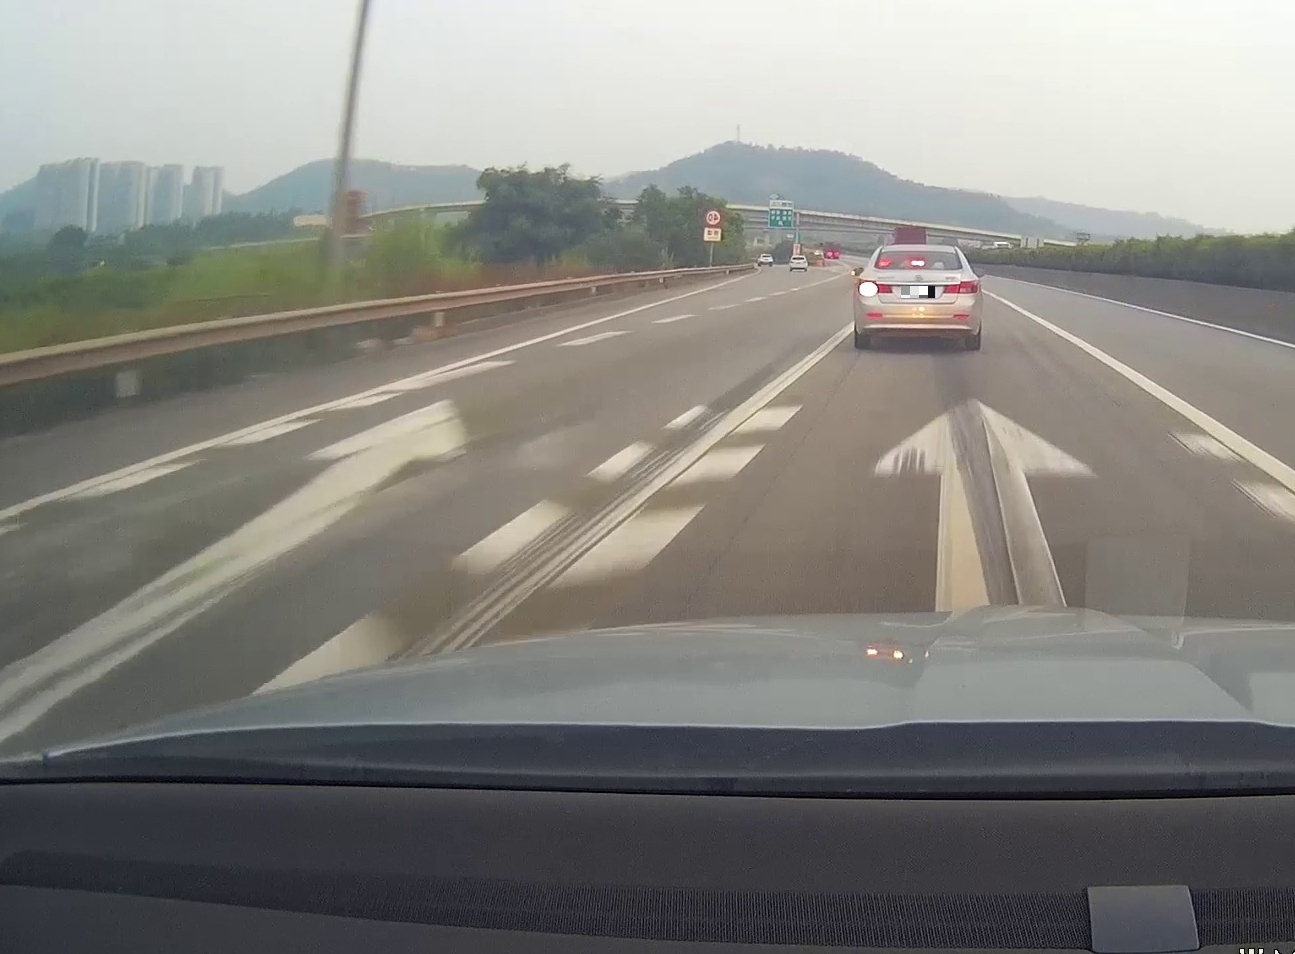L_light: (858, 279, 893, 294)
R_light: (943, 279, 978, 294)
T_light: (911, 261, 924, 265)
day-left: (856, 243, 981, 351)
plate_1: (901, 287, 935, 298)
